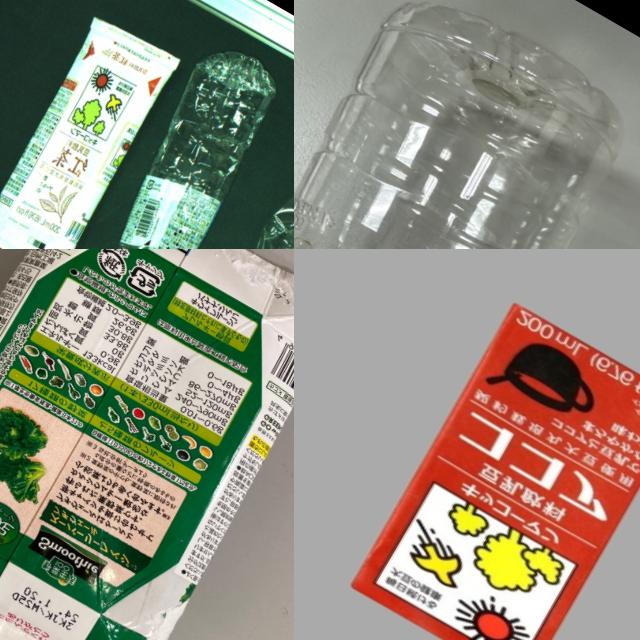Aluminium Foil: (0, 249, 294, 640), (334, 292, 640, 640), (0, 4, 185, 249)
Transparent Plastic Bottle: (294, 0, 640, 249), (56, 32, 293, 249), (195, 97, 294, 249)
